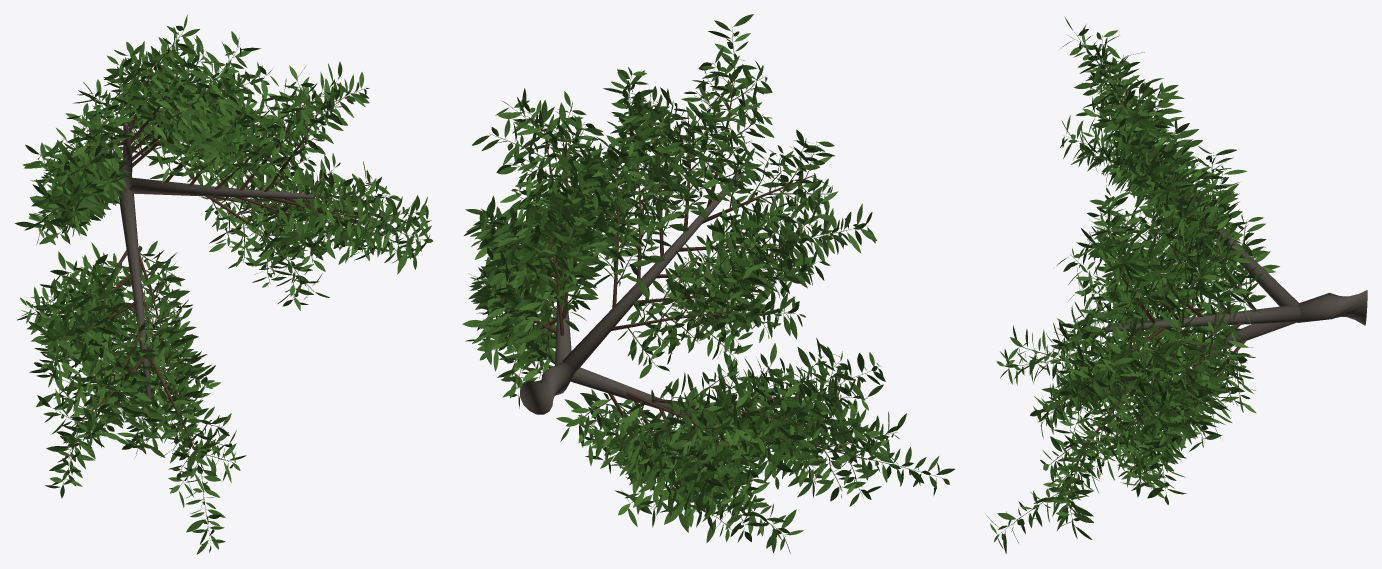
File: tree_00.glb
3 views of the same model, side by side, from view 1: azimuth 30°, elevation 25°; view 2: azimuth 150°, elevation 25°; view 3: azimuth 270°, elevation 25° (orthographic). The views are drawn at different scales.
Parts seen in each view (by area): view 1: export_Tree00/leaves, export_Tree00/scaffold2, export_Tree00/scaffold0; view 2: export_Tree00/leaves, export_Tree00/scaffold1, export_Tree00/trunk, export_Tree00/scaffold2, export_Tree00/scaffold0; view 3: export_Tree00/leaves, export_Tree00/scaffold0, export_Tree00/trunk, export_Tree00/scaffold1, export_Tree00/scaffold2.
Boxes of the visible parts, left/top/right/bottom form: export_Tree00/leaves: left=15, top=14, right=432, bottom=554; export_Tree00/scaffold2: left=118, top=189, right=151, bottom=401; export_Tree00/scaffold0: left=129, top=177, right=314, bottom=198; export_Tree00/leaves: left=462, top=14, right=954, bottom=553; export_Tree00/scaffold1: left=562, top=173, right=743, bottom=373; export_Tree00/trunk: left=520, top=362, right=573, bottom=414; export_Tree00/scaffold2: left=570, top=367, right=716, bottom=425; export_Tree00/scaffold0: left=555, top=258, right=571, bottom=365; export_Tree00/leaves: left=986, top=16, right=1279, bottom=553; export_Tree00/scaffold0: left=1104, top=305, right=1301, bottom=332; export_Tree00/trunk: left=1297, top=290, right=1367, bottom=325; export_Tree00/scaffold1: left=1127, top=126, right=1299, bottom=306; export_Tree00/scaffold2: left=1084, top=322, right=1297, bottom=399.
Bounding box in the file's own units: 3.02 × 3.55 × 2.32.
